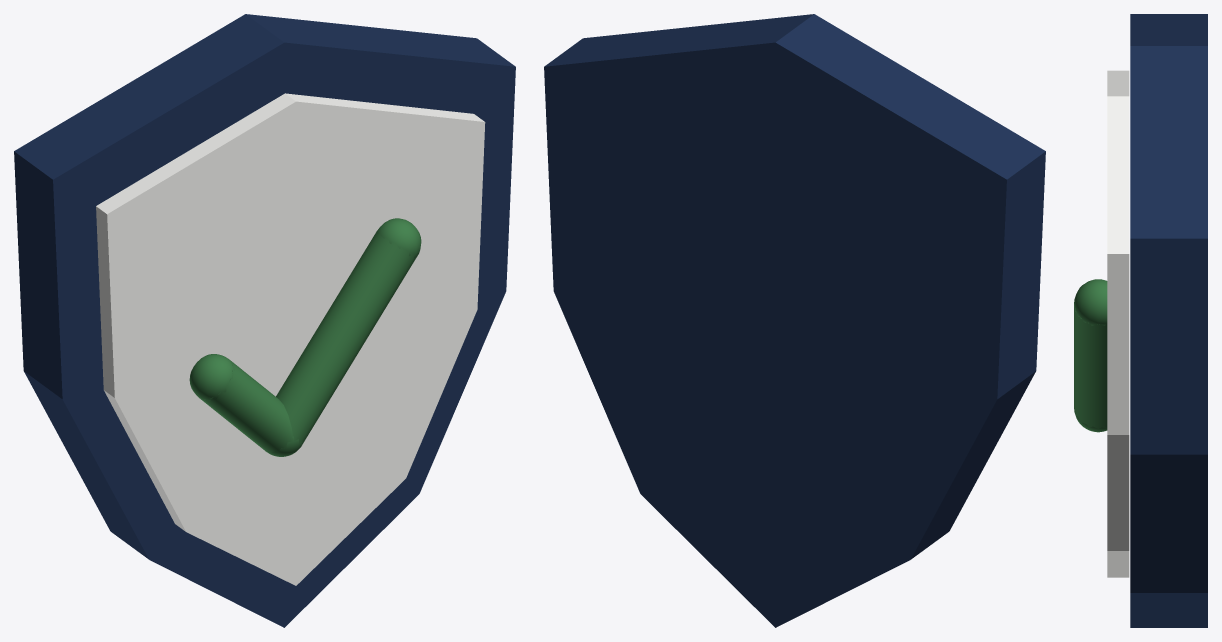
The model's file is safety.glb.
The picture shows the model from 3 angles, left to right: view 1: azimuth 30°, elevation 25°; view 2: azimuth 150°, elevation 25°; view 3: azimuth 270°, elevation 25°; orthographic projection.
Parts seen in each view (by area): view 1: safety; view 2: safety; view 3: safety.
Boxes of the visible parts, x1,y1,x2,y2 form: safety: [14, 14, 515, 627]; safety: [544, 14, 1045, 627]; safety: [1074, 14, 1207, 627].
Bounding box in the file's own units: 2.4 × 2.9 × 0.605.
